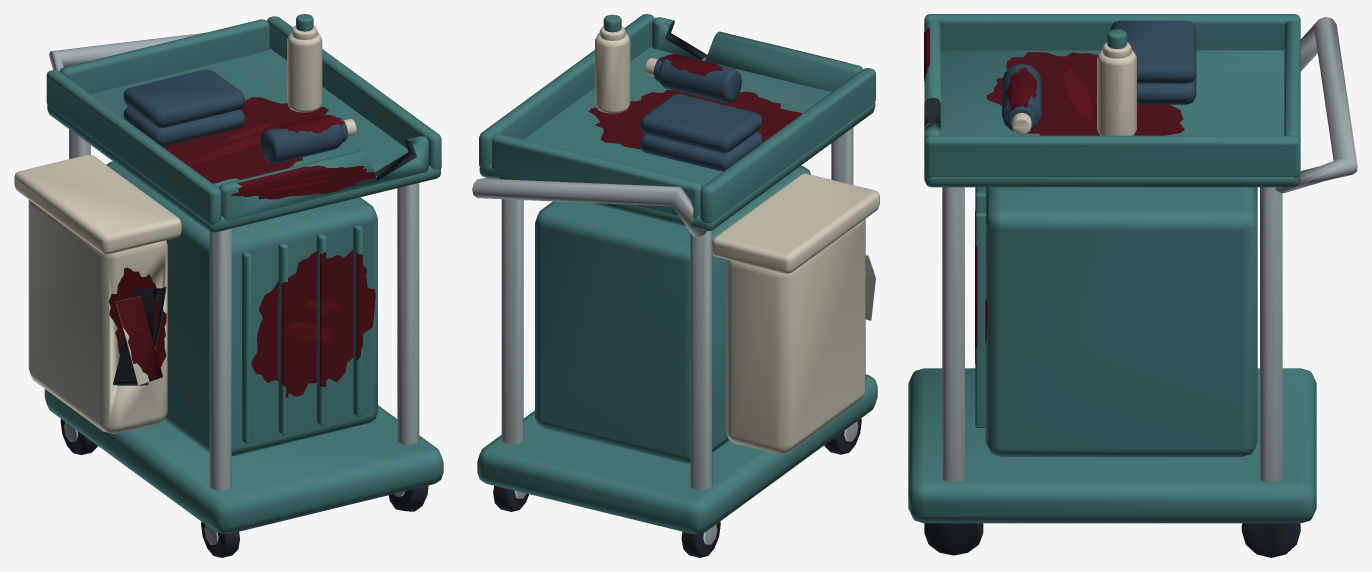
Rendered from janitor_cart.glb.
3 views of the same model, side by side, from view 1: azimuth 30°, elevation 25°; view 2: azimuth 150°, elevation 25°; view 3: azimuth 270°, elevation 25° (orthographic). The views are drawn at different scales.
Parts seen in each view (by area): view 1: Outbreak_Utility_Janitor_Cart_Static; view 2: Outbreak_Utility_Janitor_Cart_Static; view 3: Outbreak_Utility_Janitor_Cart_Static.
Boxes of the visible parts, <box> form: Outbreak_Utility_Janitor_Cart_Static: <box>14,14,443,557</box>; Outbreak_Utility_Janitor_Cart_Static: <box>472,14,879,557</box>; Outbreak_Utility_Janitor_Cart_Static: <box>908,14,1357,557</box>.
Size of the model in its own units: 0.83 by 1.23 by 0.9904.
